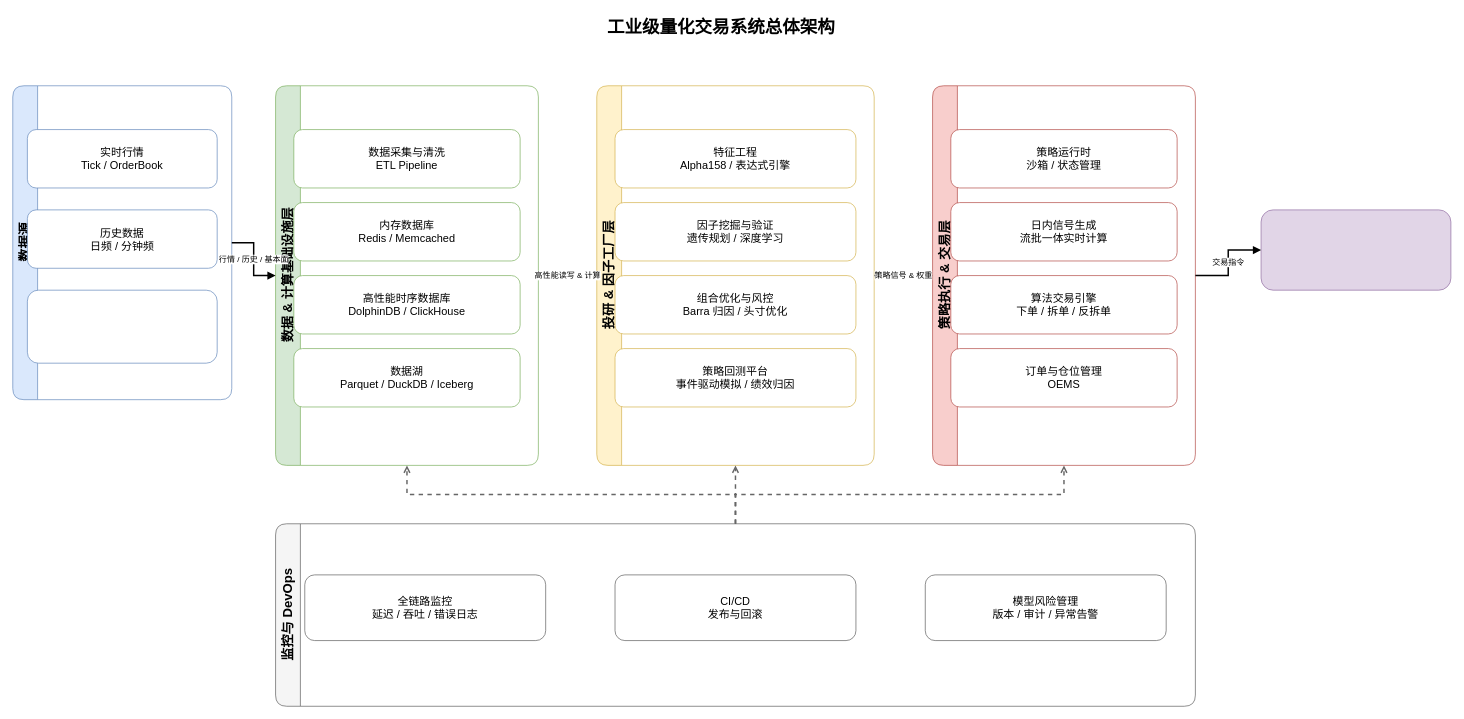
Some shapes in this 1464 by 719 pixel diagram are drawn without their labels. Here are the shapes that lost their labels. From the top down, the centre of each, then its label:
pixel 1355 249: 券商 / 交易所 API
pixel 122 326: 基本面与另类数据 财报 / 公告 / 舆情 / 产业链
